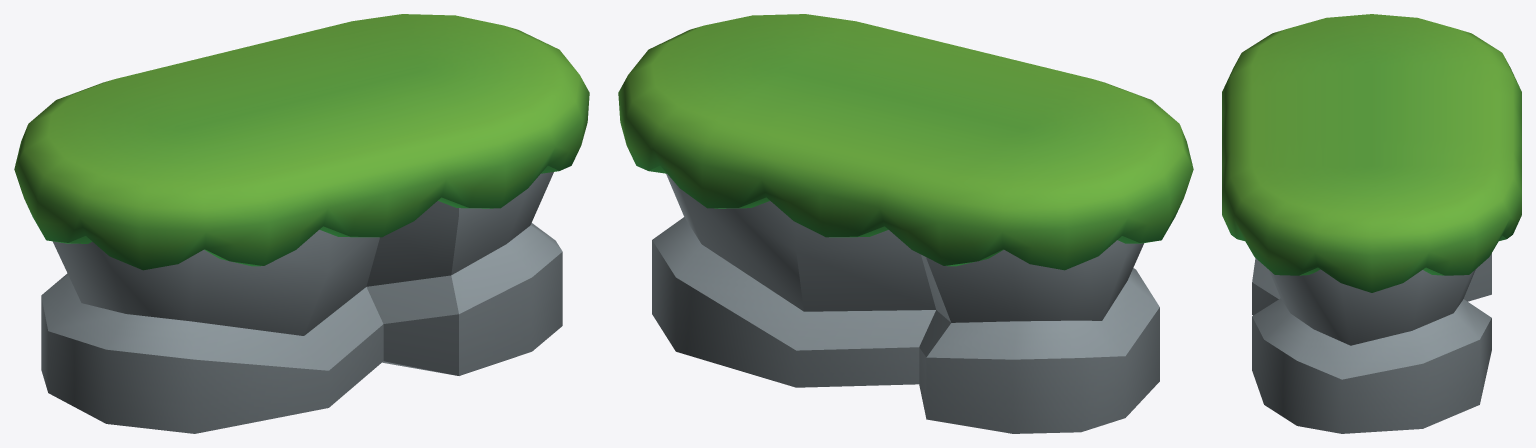
File: Hill_4x2x2_Color1.gltf
3 views of the same model, side by side, from view 1: azimuth 30°, elevation 25°; view 2: azimuth 150°, elevation 25°; view 3: azimuth 270°, elevation 25° (orthographic). The views are drawn at different scales.
Visible parts, largest first — view 1: Hill_4x2x2_Color1; view 2: Hill_4x2x2_Color1; view 3: Hill_4x2x2_Color1.
Boxes of the visible parts, left/top/right/bottom form: Hill_4x2x2_Color1: left=14, top=14, right=589, bottom=433; Hill_4x2x2_Color1: left=618, top=14, right=1193, bottom=433; Hill_4x2x2_Color1: left=1222, top=14, right=1521, bottom=433.
Bounding box in the file's own units: 4.47 × 2 × 2.5.
1 material, 1 textured.
